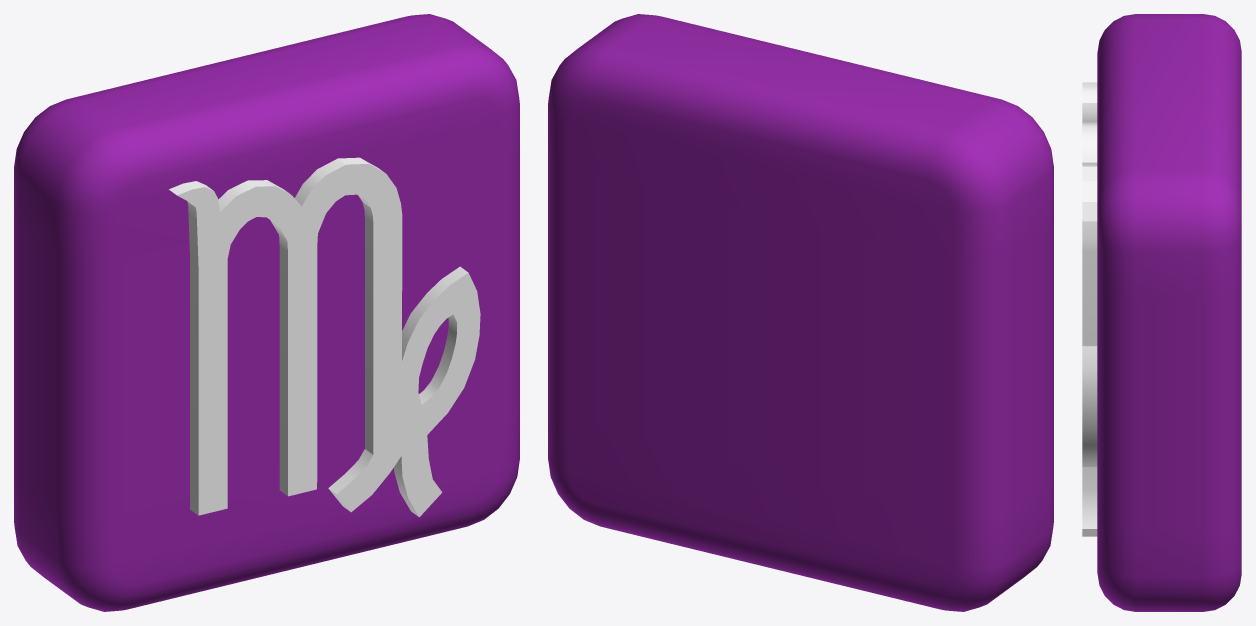
The model's file is virgo.glb.
3 views of the same model, side by side, from view 1: azimuth 30°, elevation 25°; view 2: azimuth 150°, elevation 25°; view 3: azimuth 270°, elevation 25° (orthographic). The views are drawn at different scales.
Parts seen in each view (by area): view 1: Cube.6404; view 2: Cube.6404; view 3: Cube.6404.
Part boxes in pixels (x1,y1,x2,y2): Cube.6404: [14, 14, 519, 611]; Cube.6404: [548, 14, 1053, 611]; Cube.6404: [1082, 14, 1241, 611].
Bounding box in the file's own units: 2.2 × 2.2 × 0.73.
Materials: 1 (1 with a texture image).
